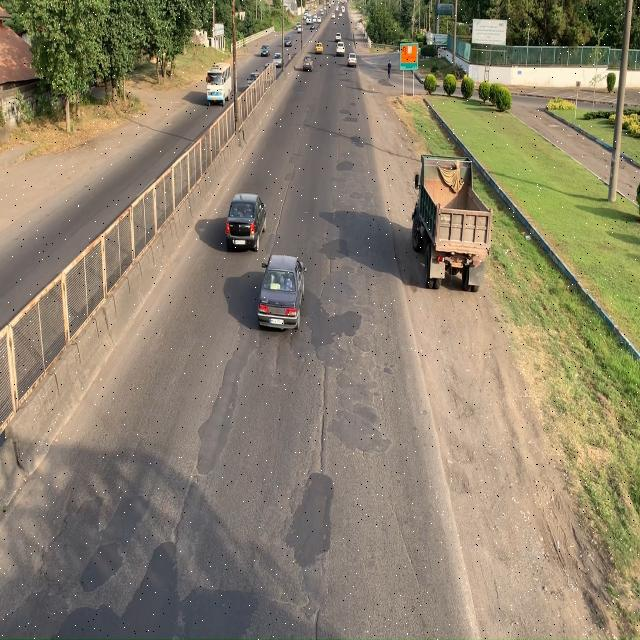Truck: (411, 150, 494, 294)
cars: (258, 252, 307, 331), (227, 190, 266, 248)
